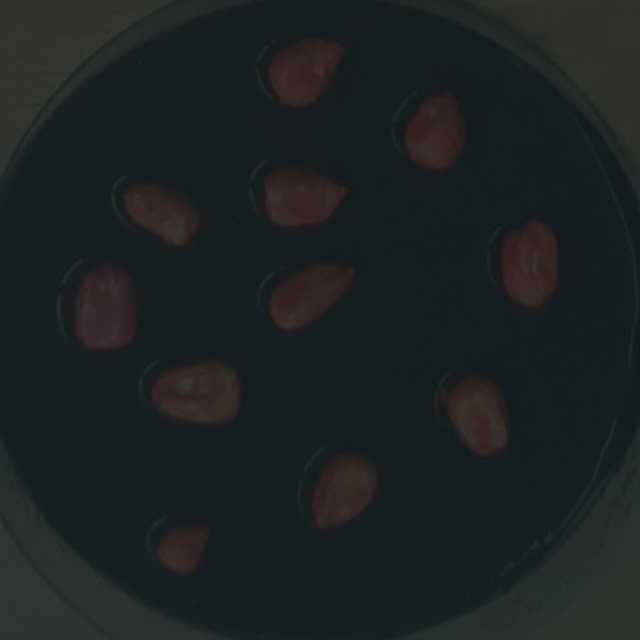Zea mays: (262, 250, 369, 340), (140, 348, 252, 431), (258, 25, 353, 112), (252, 156, 359, 233), (67, 252, 146, 356), (115, 169, 210, 253), (438, 366, 521, 461), (491, 208, 566, 313), (302, 440, 386, 532), (397, 77, 474, 177), (147, 511, 221, 580)
